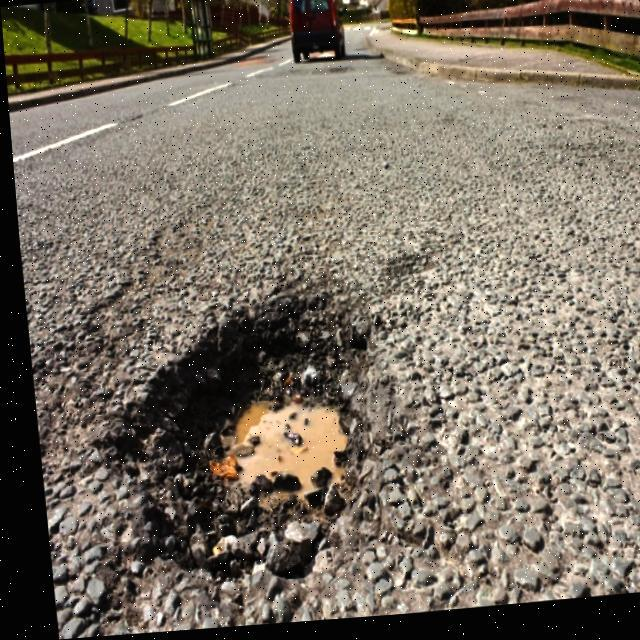pothole: (96, 279, 371, 612)
